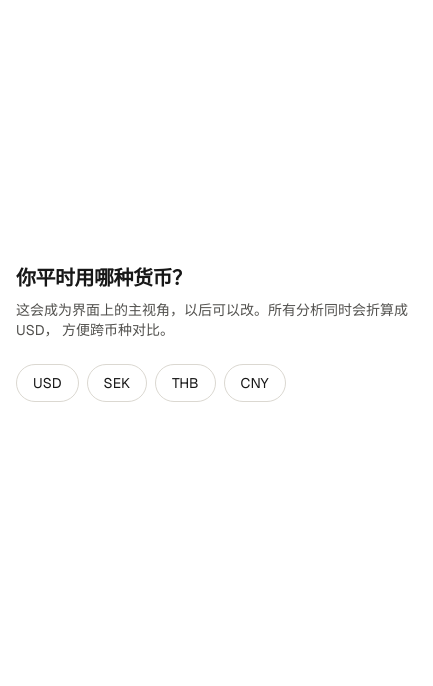
Test: 首次使用 › 先问本币，选完才进入账本
Check: the heading "你平时用哪种货币？" is shown, box [16,265,192,291]
Click the button "SEK".
click(117, 383)  # box [86,364,147,402]
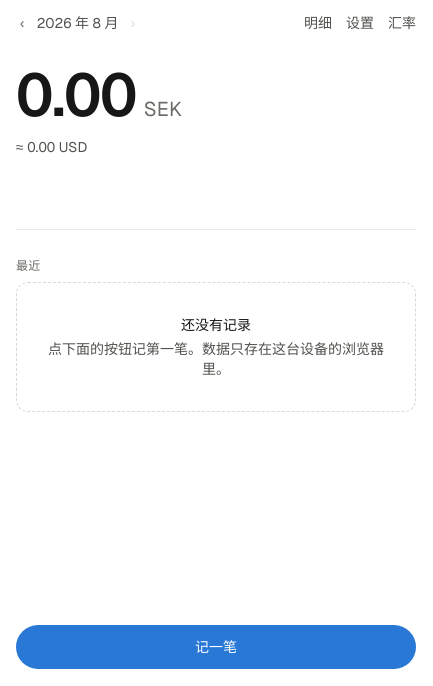
Check: the text "SEK" is shown, box [144,95,182,123]
Check: the button "记一笔" is shown, box [16,625,416,669]
